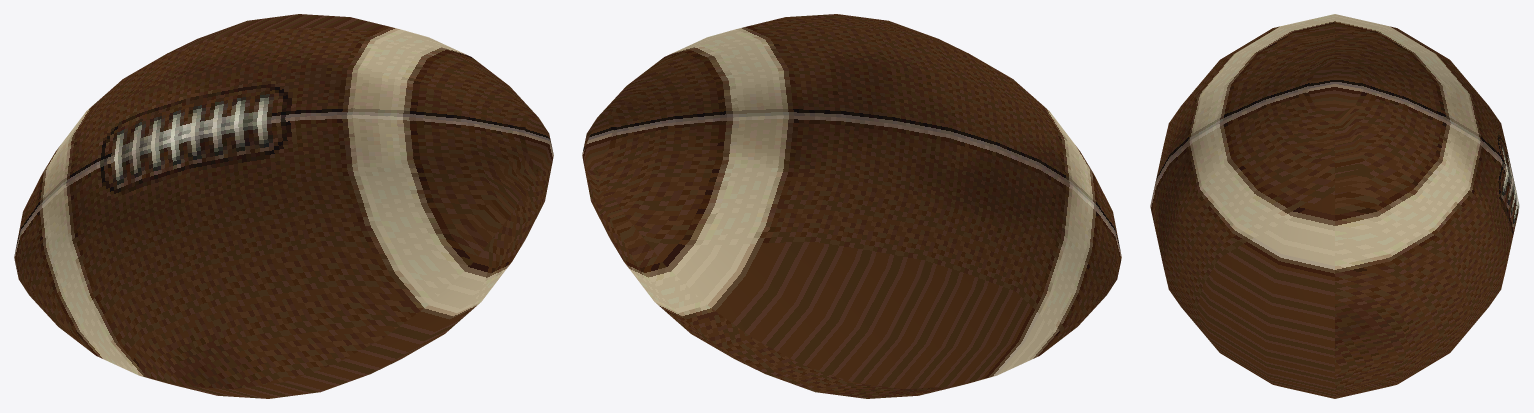
The model's file is ps2_save-icons_backyardfootball2006.glb.
3 views of the same model, side by side, from view 1: azimuth 30°, elevation 25°; view 2: azimuth 150°, elevation 25°; view 3: azimuth 270°, elevation 25° (orthographic). The views are drawn at different scales.
Visible parts, largest first — view 1: saveicon.ico; view 2: saveicon.ico; view 3: saveicon.ico.
Boxes of the visible parts, left/top/right/bottom form: saveicon.ico: left=14, top=14, right=553, bottom=398; saveicon.ico: left=582, top=14, right=1121, bottom=398; saveicon.ico: left=1150, top=14, right=1519, bottom=398.
Bounding box in the file's own units: 4.37 × 2.76 × 2.79.
Materials: 1 (1 with a texture image).
